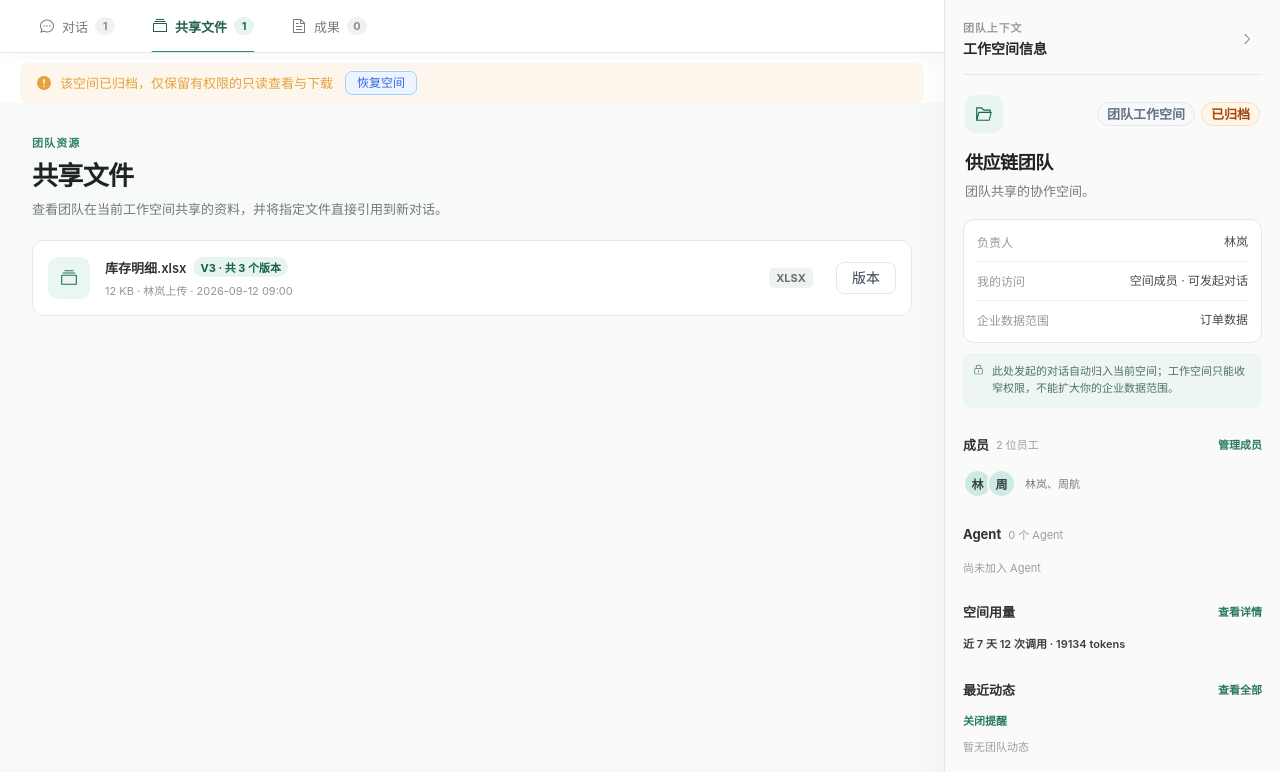
Test case: WorkspaceDetailView 文件版本 UI（TW-07 / 3-T9） › 归档空间隐藏上传入口，但保留版本列表与历史下载（引用入口随执行轨隐藏）
Click the button with test id "workspace-file-versions": (866, 278) [836,262,896,294]
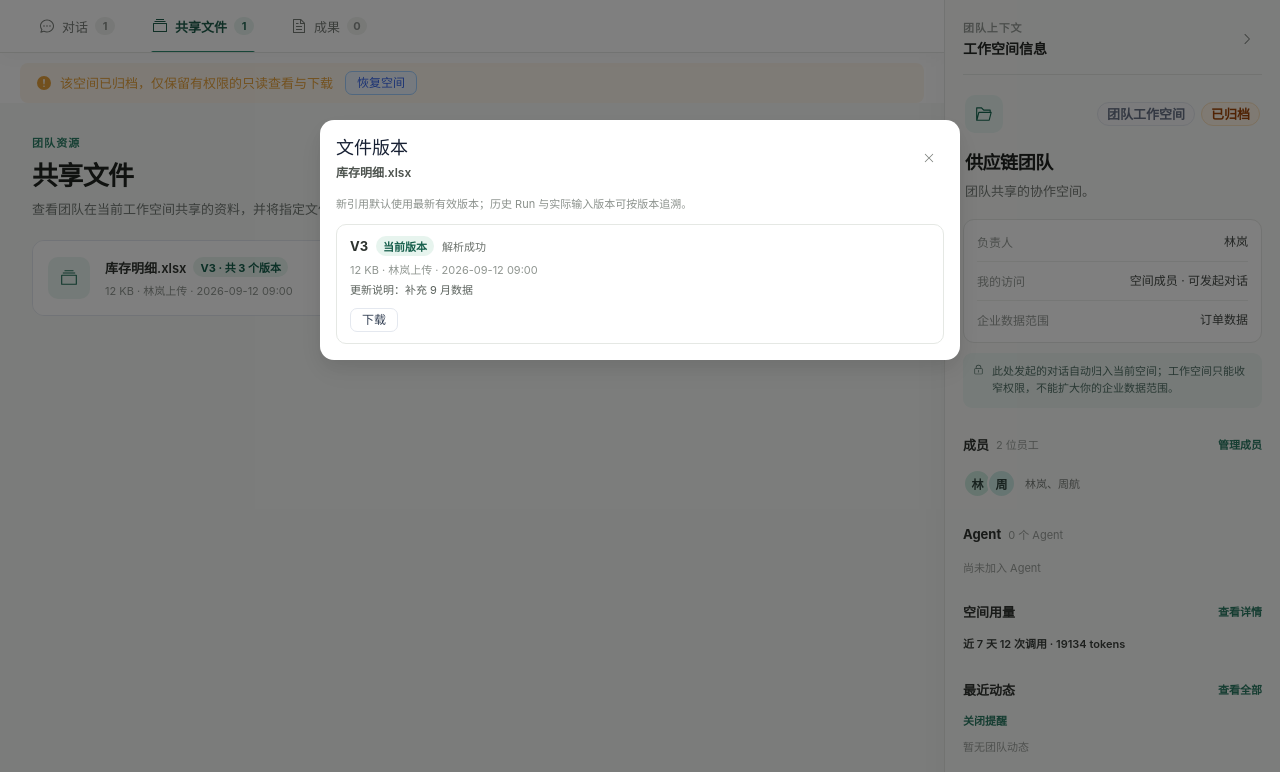
Result: the button with test id "file-versions-download" is shown at [350,308,398,332]
